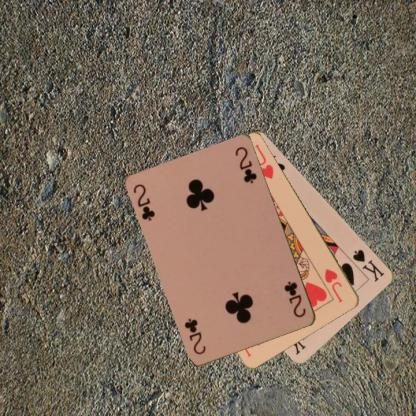2c: (282, 278, 308, 319), (131, 182, 157, 223)
Jh: (322, 266, 345, 304)
Ks: (350, 246, 386, 284)
